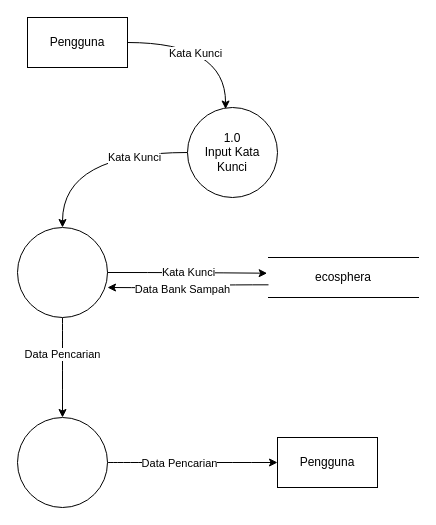
This 436x525 diagram has some shape labels left out. The box of each missing label's shape, as (x1, y1, x2, y2) in pixels:
2.0 Mencari Data Kata Kunci: (16, 226, 108, 318)
3.0 Menampilkan Data Pencarian: (16, 416, 108, 508)
